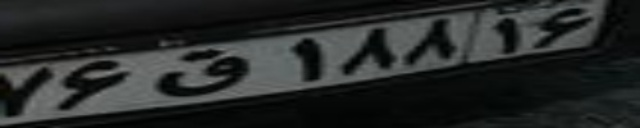1: (286, 35, 326, 82), (496, 16, 517, 54)
6: (53, 60, 132, 111), (535, 8, 592, 48)
7: (3, 63, 52, 115)
8: (339, 27, 394, 75), (405, 18, 453, 64)
ghaf: (150, 46, 252, 96)
